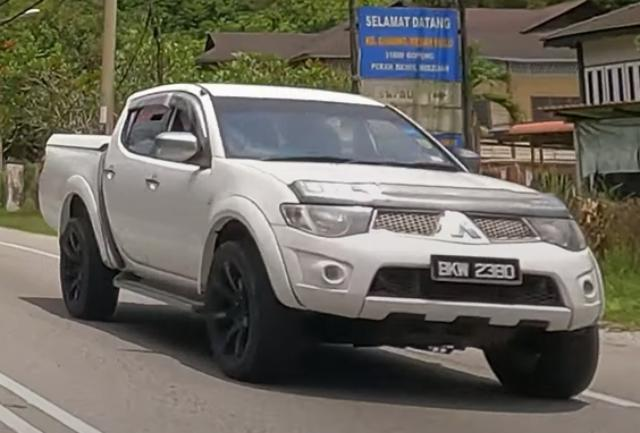License_Plate: (430, 255, 523, 287)
car: (38, 82, 607, 400)
